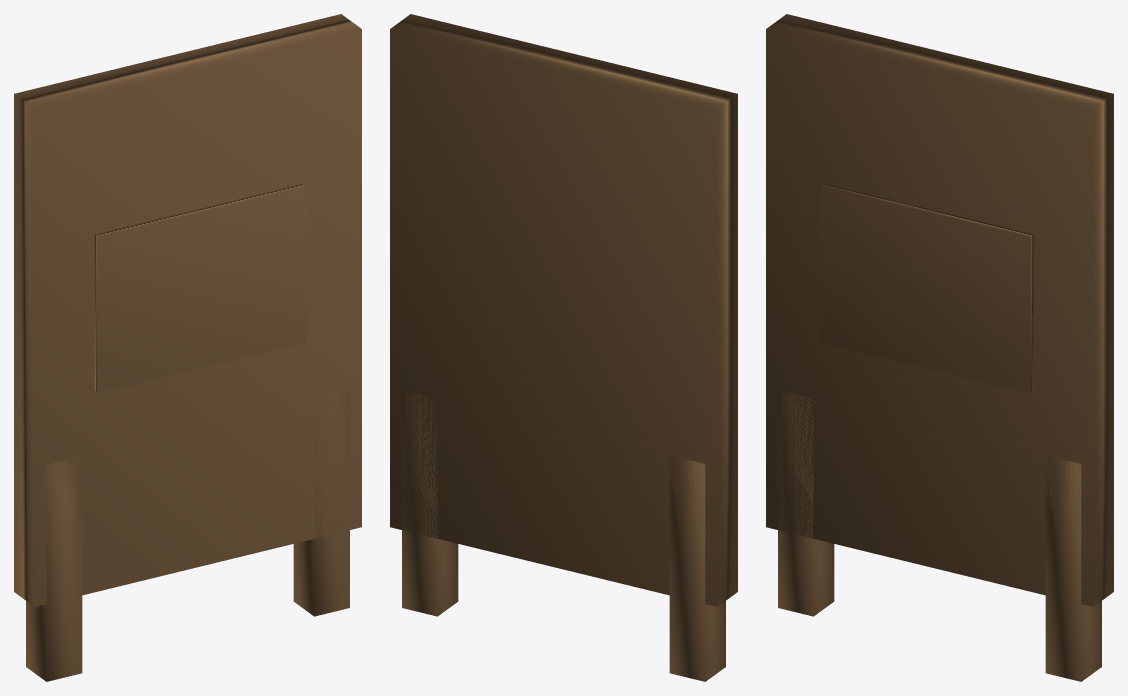
Rendered from order_board.obj.
3 renders of one model, left to right at view 1: azimuth 30°, elevation 25°; view 2: azimuth 150°, elevation 25°; view 3: azimuth 330°, elevation 25°, orthographic.
Size of the model in its own units: 2.2 by 3.7 by 0.29.
